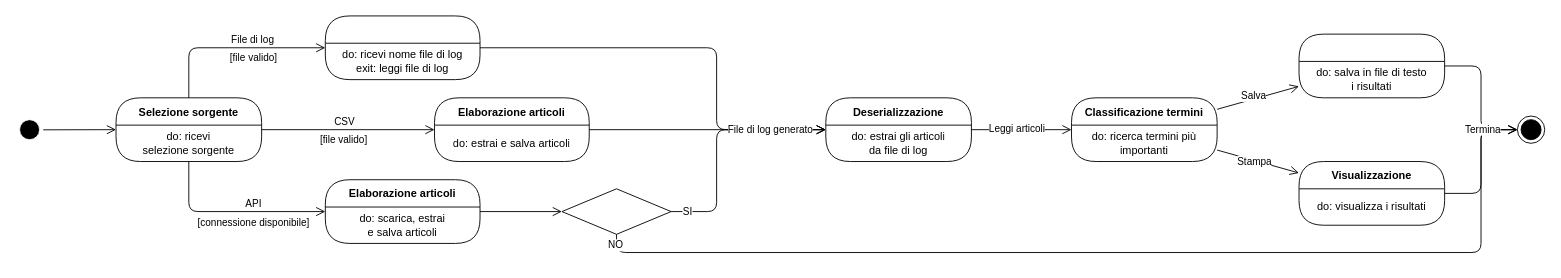
The diagram is 1561 pixels wide and 278 high, and some of its shapes have lost their labels. Each missing label, with the box of its shape:
Analizza articoli: (561, 188, 671, 234)
Attesa lettura file di log: (324, 15, 480, 80)
Salvataggio: (1298, 33, 1445, 98)
